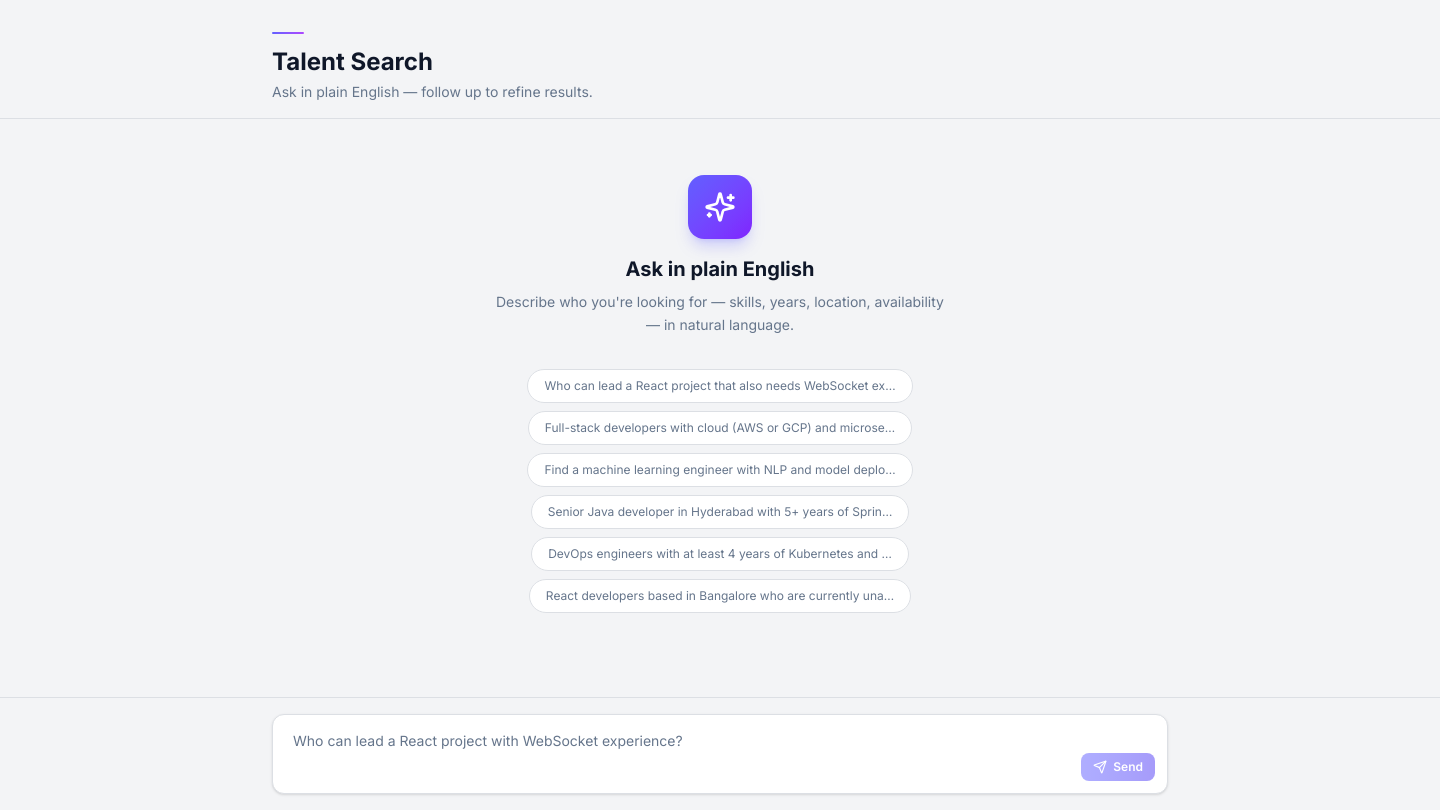
Test: SearchPage › submits query on Send button click and shows results
The width and height of the screenshot is (1440, 810).
Type "React developer" into the text box at coordinates (720, 751), box top-left (273, 715), bottom-right (1167, 787)
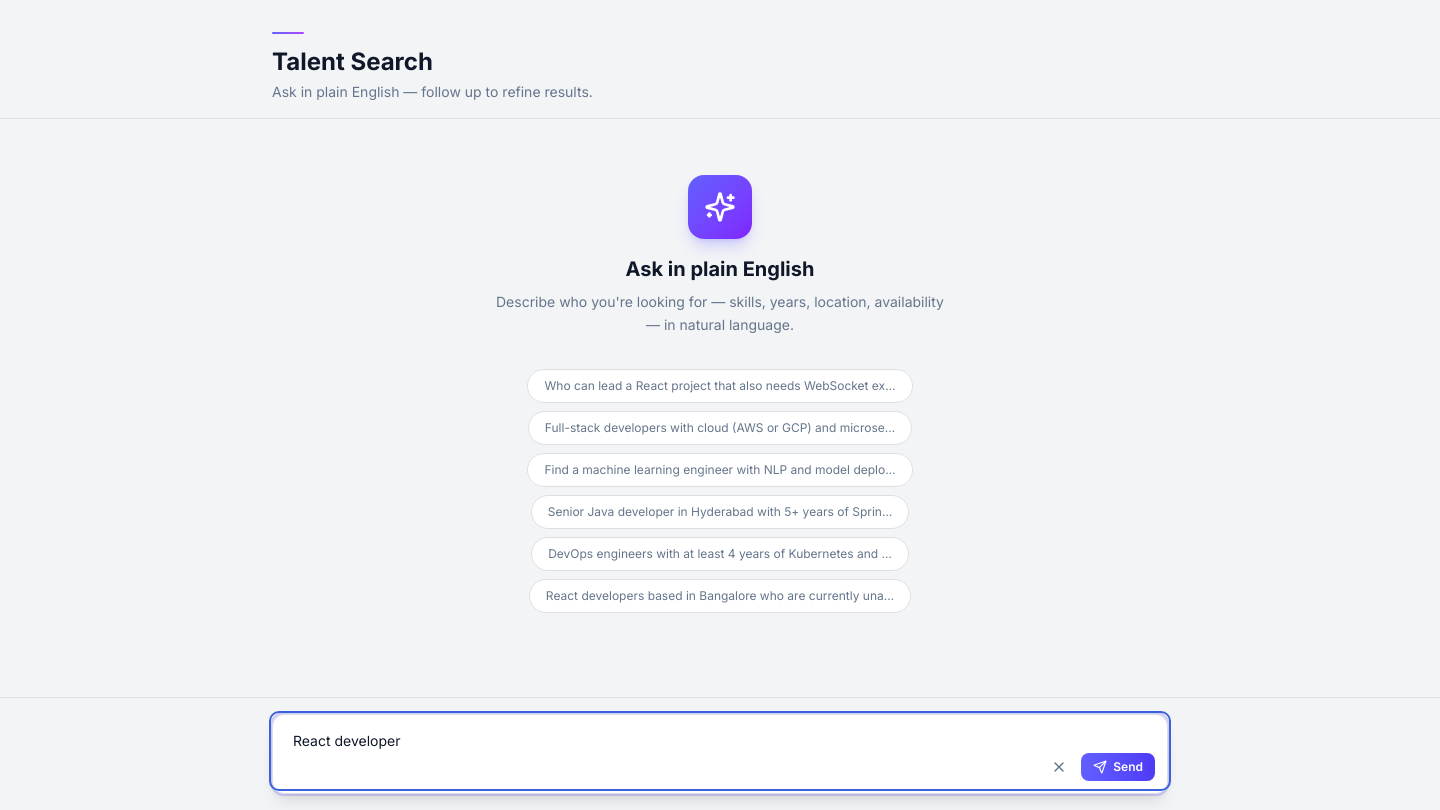
Click the button "Send" at coordinates (1118, 767), box top-left (1081, 753), bottom-right (1155, 781)
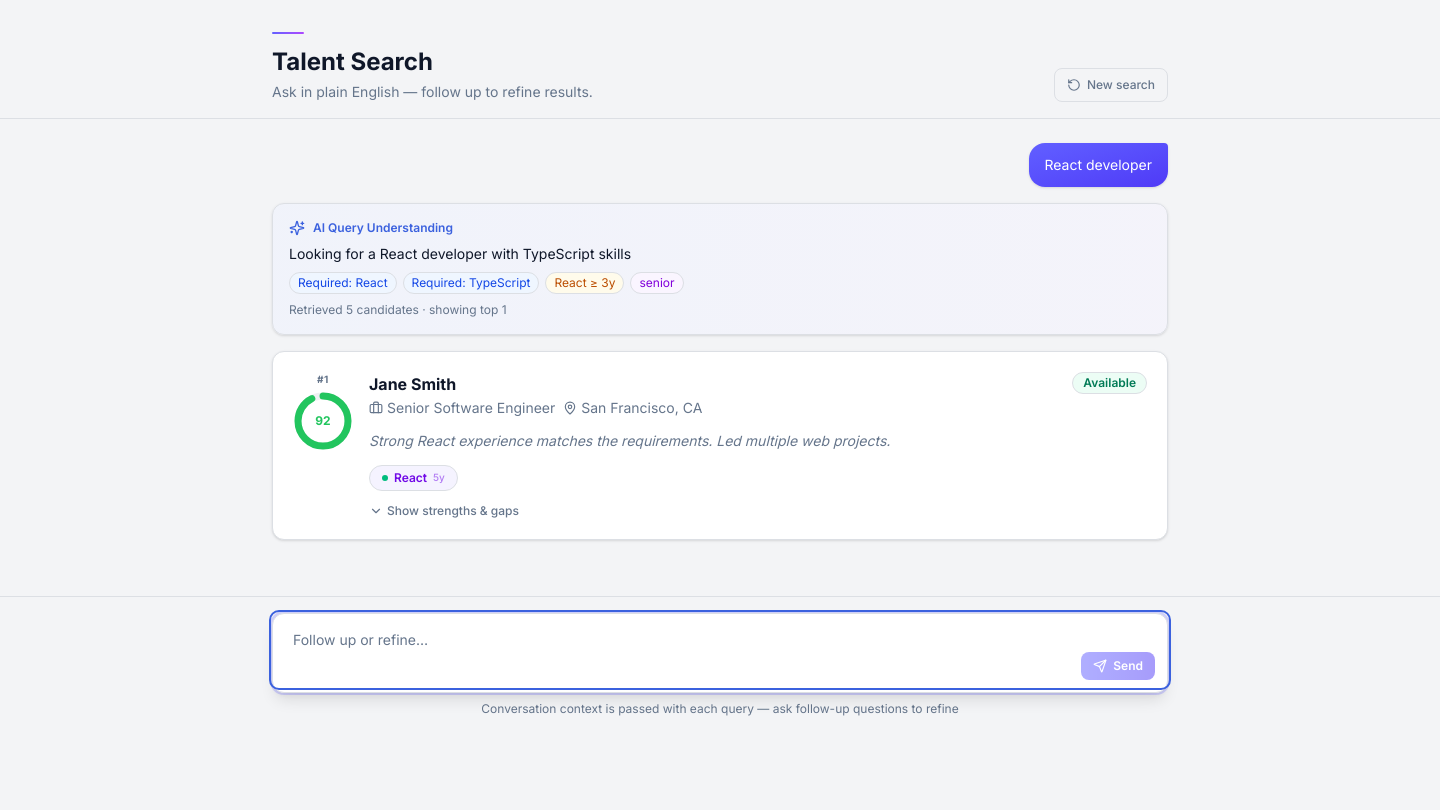
Check: the link "Jane Smith" is shown, box top-left (369, 374), bottom-right (456, 394)
